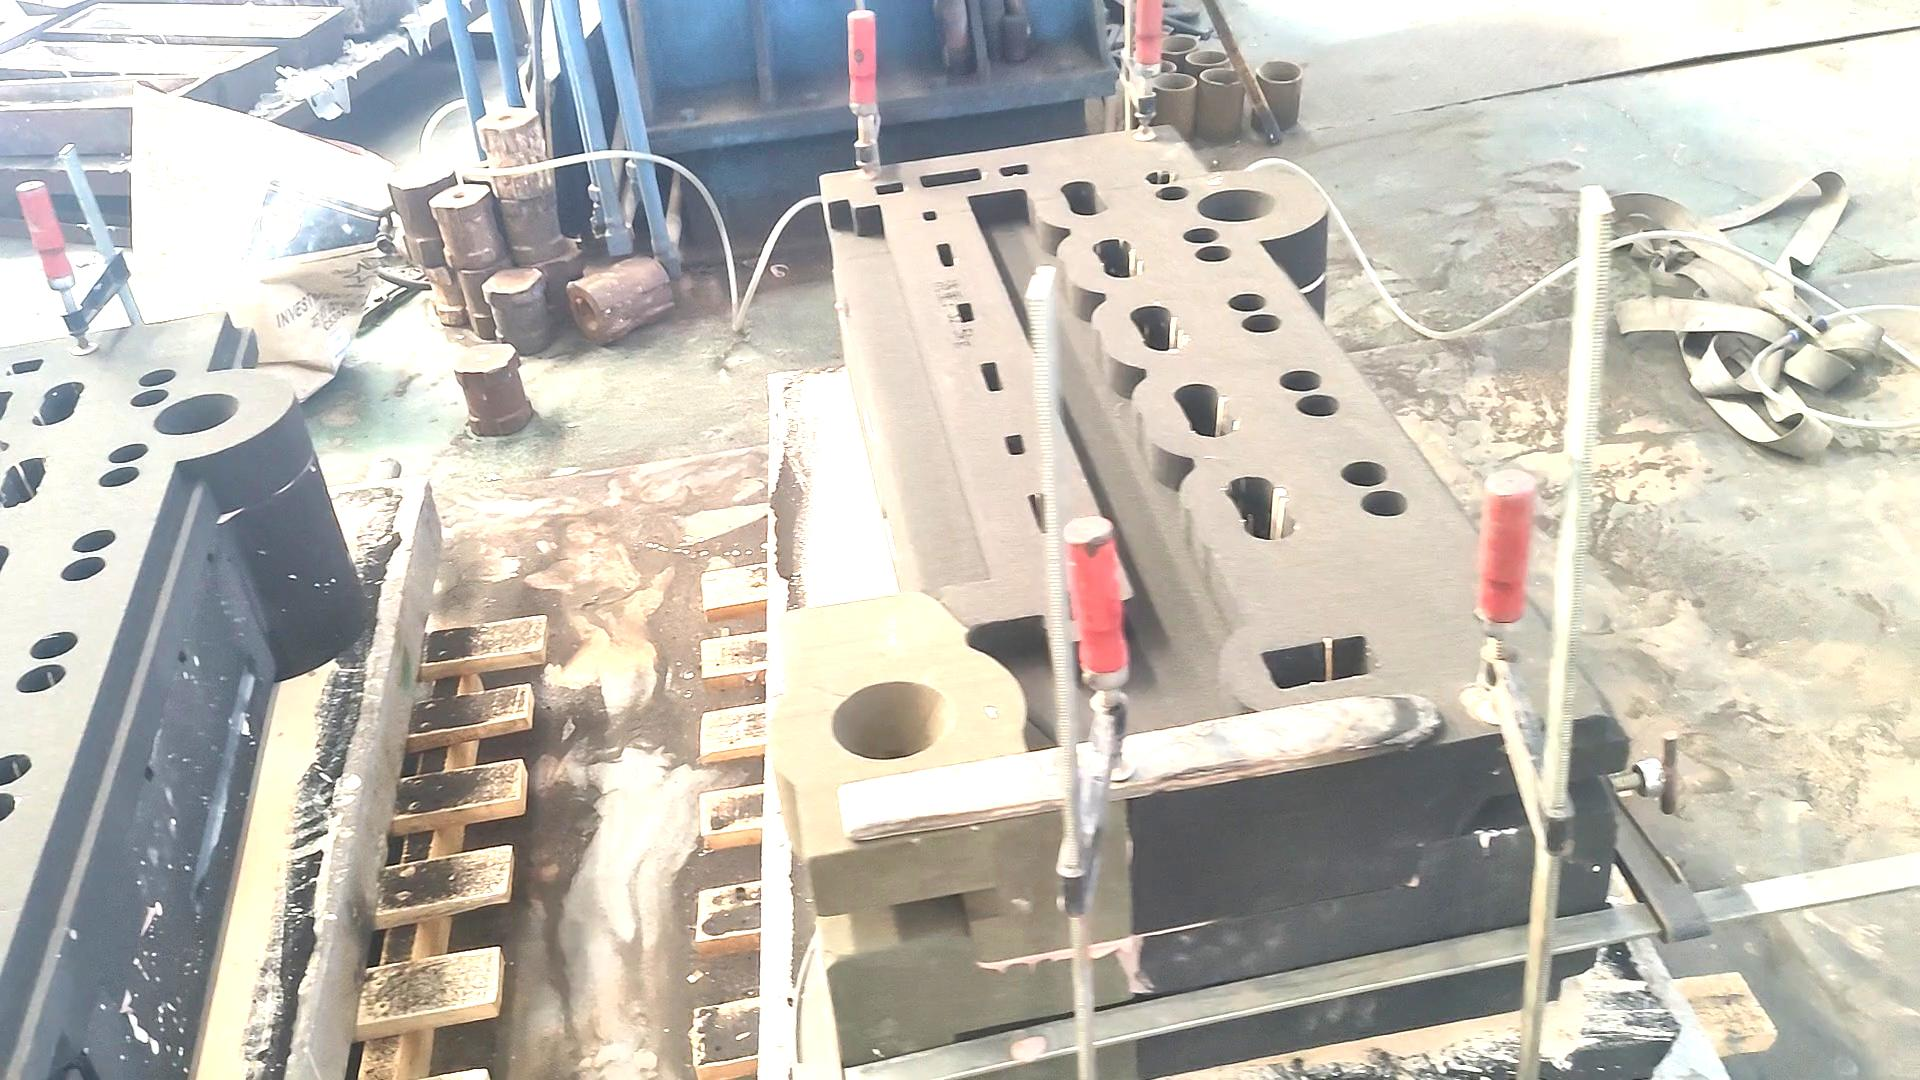pouring hole: (832, 680, 955, 760), (153, 393, 239, 436), (1196, 189, 1276, 223), (1257, 58, 1304, 82), (1199, 66, 1247, 84), (1155, 34, 1199, 54), (1129, 59, 1176, 75), (1151, 73, 1197, 88), (1185, 51, 1230, 65)
